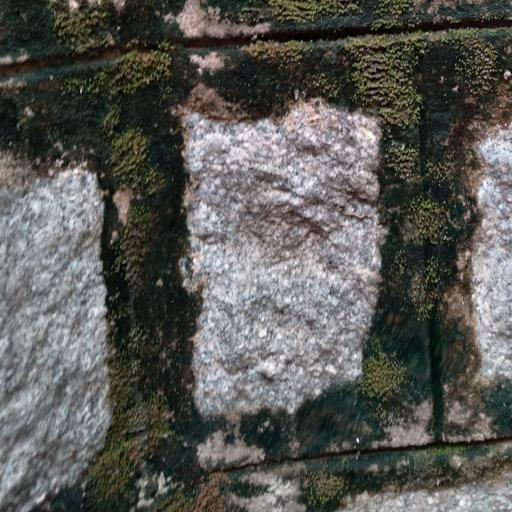algae: (8, 0, 512, 512)
